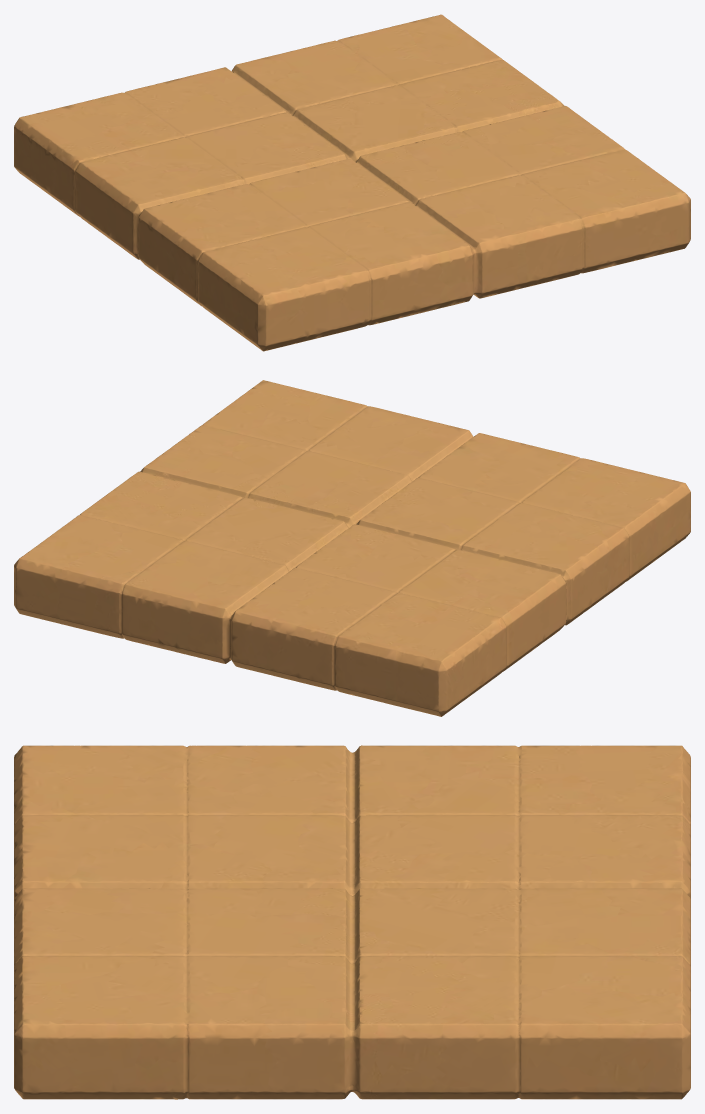
The model's file is Slab.glb.
3 renders of one model, top to bottom at view 1: azimuth 30°, elevation 25°; view 2: azimuth 150°, elevation 25°; view 3: azimuth 270°, elevation 25°, orthographic. The views are drawn at different scales.
Parts seen in each view (by area): view 1: mesh_0; view 2: mesh_0; view 3: mesh_0.
Boxes of the visible parts, box(x1,y1,x2,y2) form: mesh_0: box(14, 14, 690, 351); mesh_0: box(14, 380, 690, 716); mesh_0: box(14, 745, 690, 1099).
Size of the model in its own units: 1.9 by 0.2348 by 1.9.
1 material, 1 textured.
